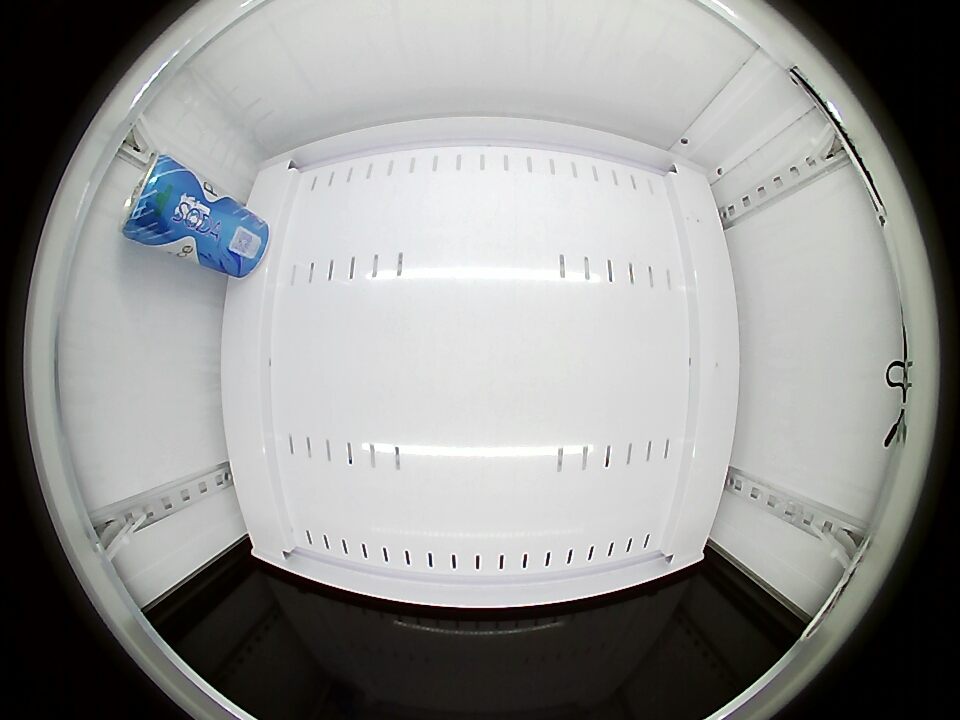qingdaowangzi-2: (119, 153, 185, 243)
